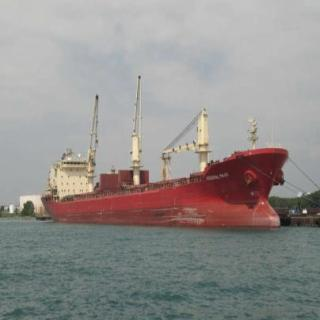Bulk Carrier: (34, 93, 294, 225)
